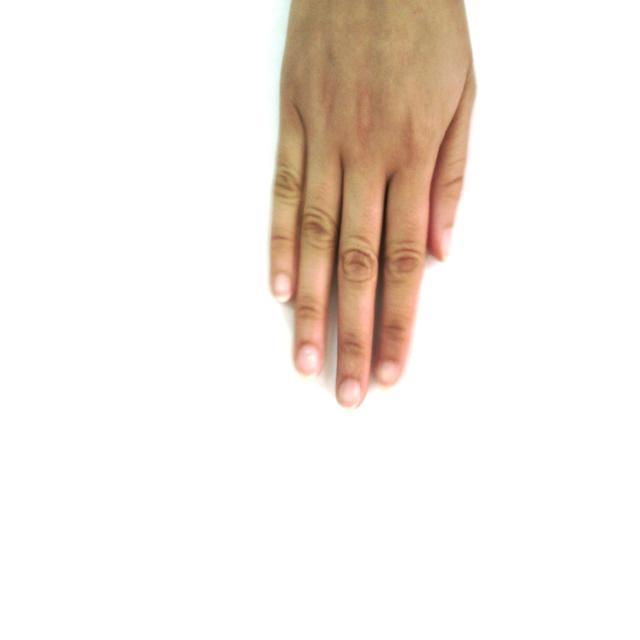Fingernail: (297, 346, 319, 376), (339, 379, 361, 408), (378, 362, 397, 385), (439, 228, 452, 258), (275, 274, 290, 299)
